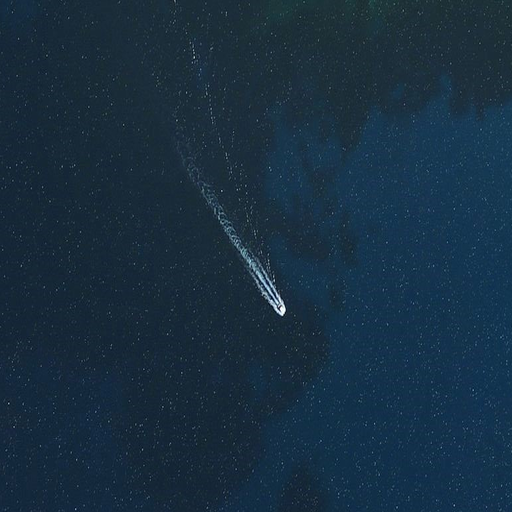ship: (275, 300, 287, 316)
